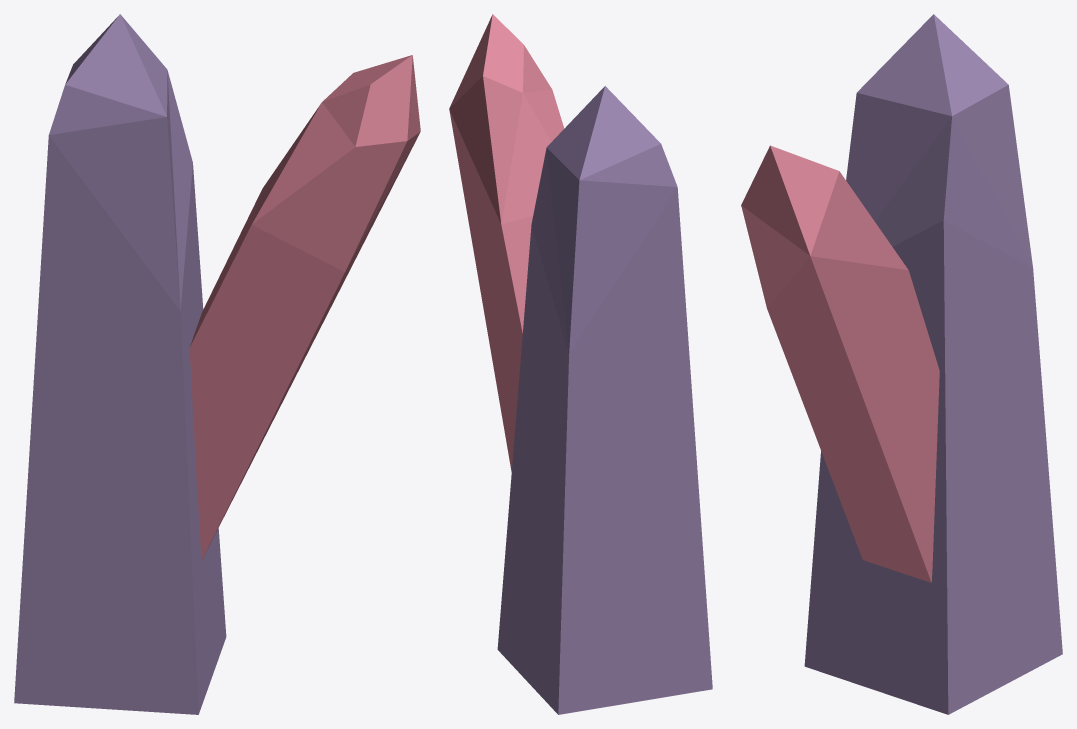
File: Crystal_2.fbx
3 renders of one model, left to right at view 1: azimuth 30°, elevation 25°; view 2: azimuth 150°, elevation 25°; view 3: azimuth 270°, elevation 25°, orthographic. The views are drawn at different scales.
Visible parts, largest first — view 1: Crystal_2; view 2: Crystal_2; view 3: Crystal_2.
Boxes of the visible parts, x1,y1,x2,y2 form: Crystal_2: (14, 14, 420, 714); Crystal_2: (449, 14, 712, 714); Crystal_2: (741, 14, 1062, 714).
Bounding box in the file's own units: 161 × 129 × 287.
